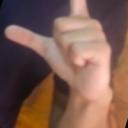hand: (4, 0, 112, 101)
